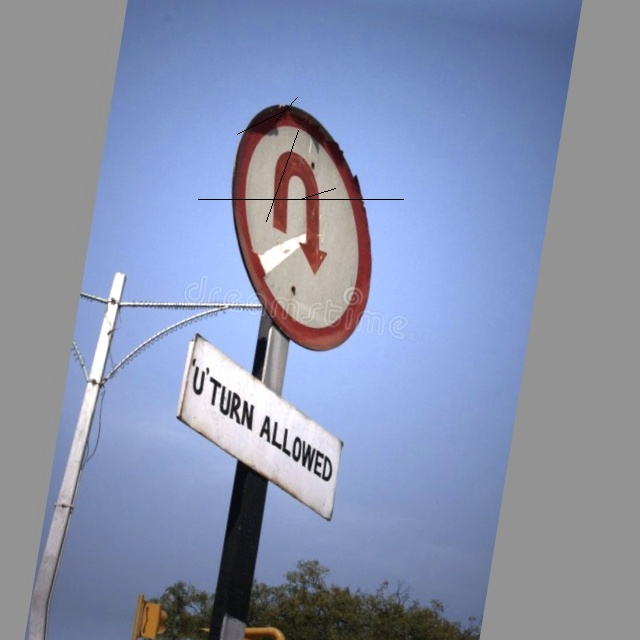U_Turn_Ahead: (198, 88, 409, 350)
